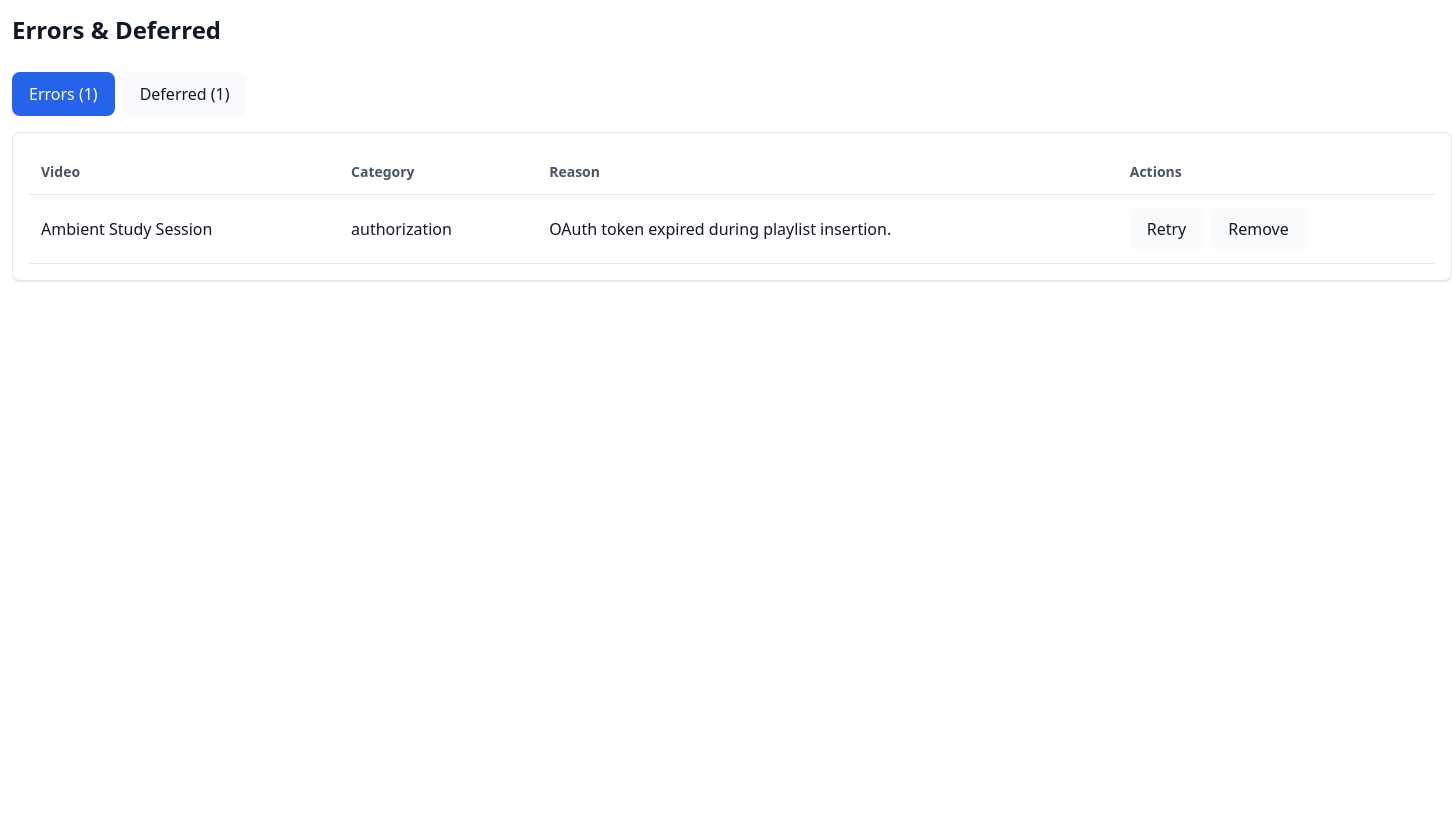
Test case: ErrorsView › dismisses an error and removes it from the list
The image size is (1452, 822).
Check: the text "Ambient Study Session" is shown, box [29,194,339,264]
Click the button "Remove": (1259, 229) [1211,207,1306,251]
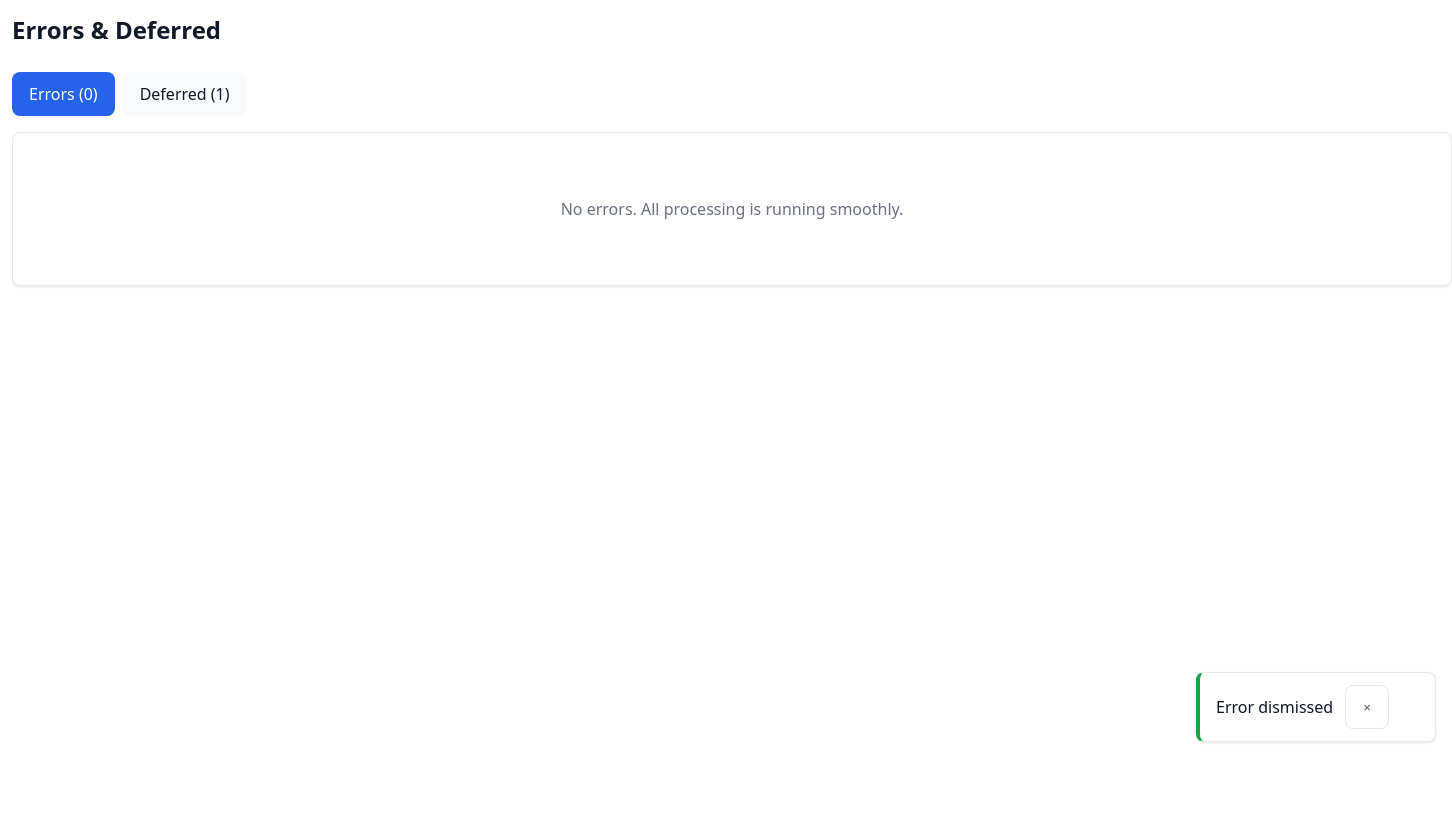
Check: the text "Ambient Study Session" is gone
Check: the text "No errors. All processing is running smoothly." is shown, box [561,198,903,220]
